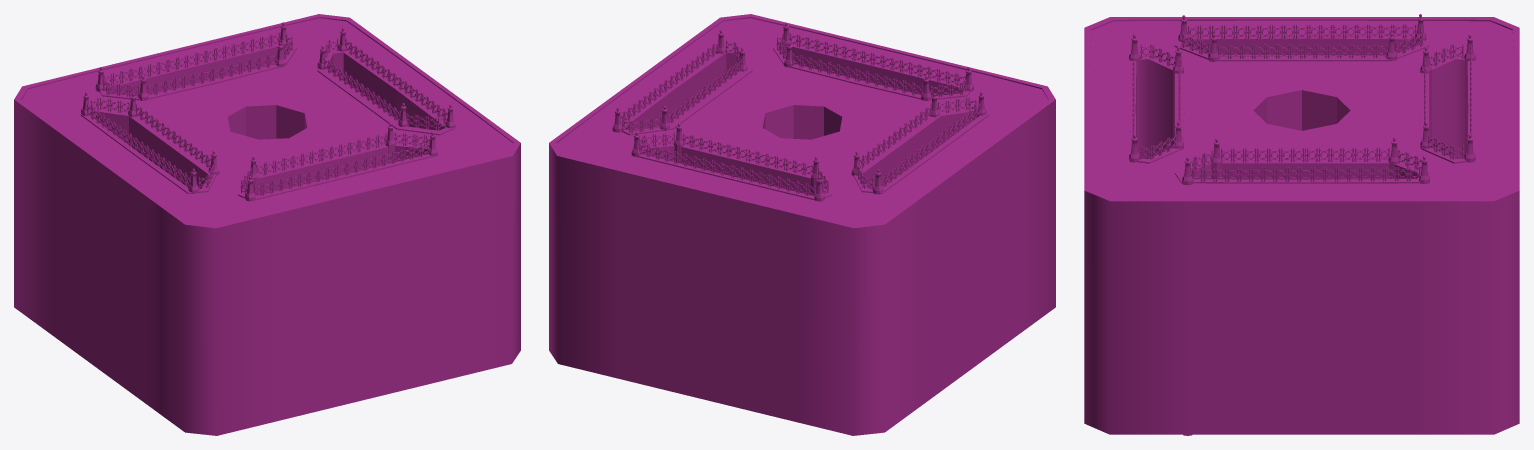
The model's file is Arena.fbx.
The picture shows the model from 3 angles, left to right: view 1: azimuth 30°, elevation 25°; view 2: azimuth 150°, elevation 25°; view 3: azimuth 270°, elevation 25°; orthographic projection. The views are drawn at different scales.
Visible parts, largest first — view 1: Arena bosa_low, Poręcz_high001, Poręcz_high, Poręcz_high007, Poręcz_high006, Lataria_low001, Poręcz_high002, Poręcz_high008, Lataria_low003, Lataria_low007, Lataria_low005; view 2: Arena bosa_low, Poręcz_high001, Poręcz_high, Poręcz_high007, Poręcz_high006, Lataria_low001, Poręcz_high002, Poręcz_high008, Lataria_low007, Lataria_low003, Lataria_low005; view 3: Arena bosa_low, Poręcz_high007, Poręcz_high006, Lataria_low003, Lataria_low001, Poręcz_high008, Poręcz_high002, Lataria_low005, Lataria_low007, Poręcz_high003, Poręcz_high001.
Part boxes in pixels (left/top/right/bottom): Arena bosa_low: left=14, top=14, right=520, bottom=435; Poręcz_high001: left=103, top=32, right=430, bottom=195; Poręcz_high: left=147, top=53, right=386, bottom=175; Poręcz_high007: left=86, top=38, right=447, bottom=186; Poręcz_high006: left=135, top=57, right=400, bottom=167; Lataria_low001: left=138, top=45, right=395, bottom=195; Poręcz_high002: left=108, top=38, right=425, bottom=190; Poręcz_high008: left=99, top=40, right=437, bottom=187; Lataria_low003: left=95, top=25, right=437, bottom=201; Lataria_low007: left=81, top=30, right=455, bottom=193; Lataria_low005: left=128, top=48, right=408, bottom=174; Arena bosa_low: left=549, top=14, right=1055, bottom=435; Poręcz_high001: left=639, top=32, right=965, bottom=196; Poręcz_high: left=682, top=53, right=922, bottom=175; Poręcz_high007: left=620, top=40, right=980, bottom=186; Poręcz_high006: left=667, top=59, right=932, bottom=168; Lataria_low001: left=674, top=45, right=931, bottom=195; Poręcz_high002: left=644, top=38, right=961, bottom=189; Poręcz_high008: left=631, top=42, right=967, bottom=187; Lataria_low007: left=612, top=32, right=986, bottom=194; Lataria_low003: left=631, top=25, right=973, bottom=201; Lataria_low005: left=659, top=50, right=939, bottom=175; Arena bosa_low: left=1084, top=17, right=1519, bottom=434; Poręcz_high007: left=1187, top=24, right=1420, bottom=182; Poręcz_high006: left=1218, top=43, right=1390, bottom=162; Lataria_low003: left=1129, top=37, right=1475, bottom=162; Lataria_low001: left=1173, top=50, right=1431, bottom=149; Poręcz_high008: left=1182, top=32, right=1422, bottom=171; Poręcz_high002: left=1152, top=44, right=1452, bottom=159; Lataria_low005: left=1208, top=36, right=1399, bottom=178; Lataria_low007: left=1178, top=17, right=1429, bottom=435; Poręcz_high003: left=1140, top=44, right=1463, bottom=159; Poręcz_high001: left=1132, top=47, right=1471, bottom=137.
Size of the model in its own units: 3400 by 2382 by 3400.
